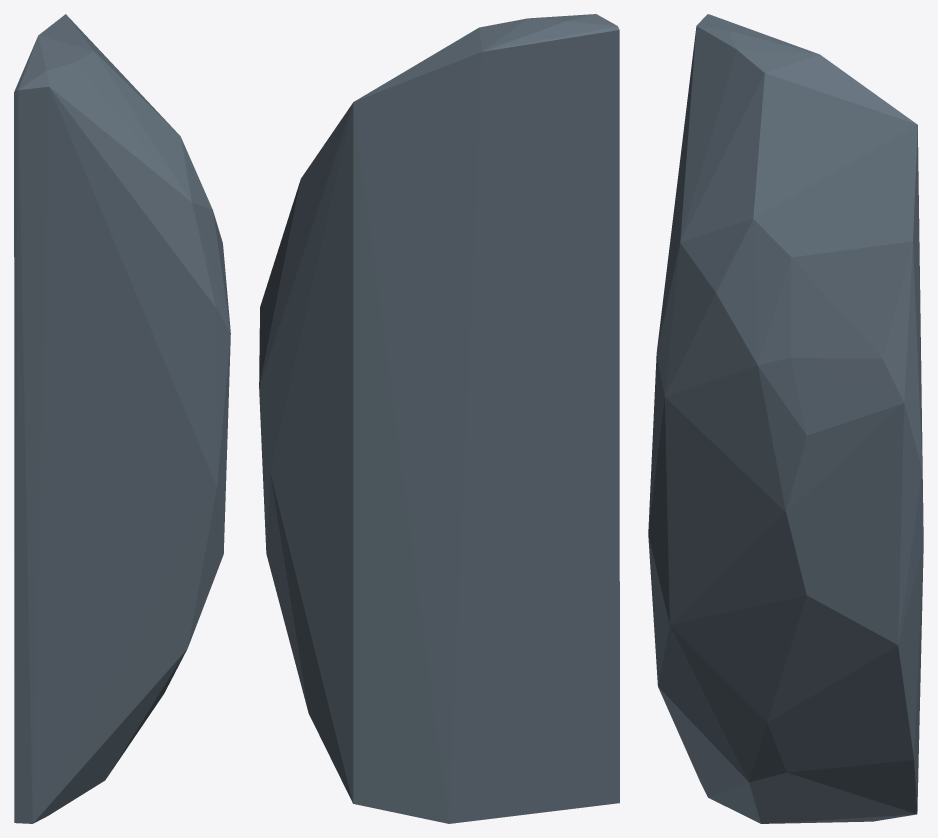
Rendered from bodyPart_bumper_front_a01.glb.
3 renders of one model, left to right at view 1: azimuth 30°, elevation 25°; view 2: azimuth 150°, elevation 25°; view 3: azimuth 270°, elevation 25°, orthographic. The views are drawn at different scales.
Visible parts, largest first — view 1: geometry_0; view 2: geometry_0; view 3: geometry_0.
Part boxes in pixels (x1,y1,x2,y2): geometry_0: (14,14,230,823); geometry_0: (259,14,619,823); geometry_0: (648,14,923,823).
Bounding box in the file's own units: 0.1709 × 0.4792 × 0.1563.
